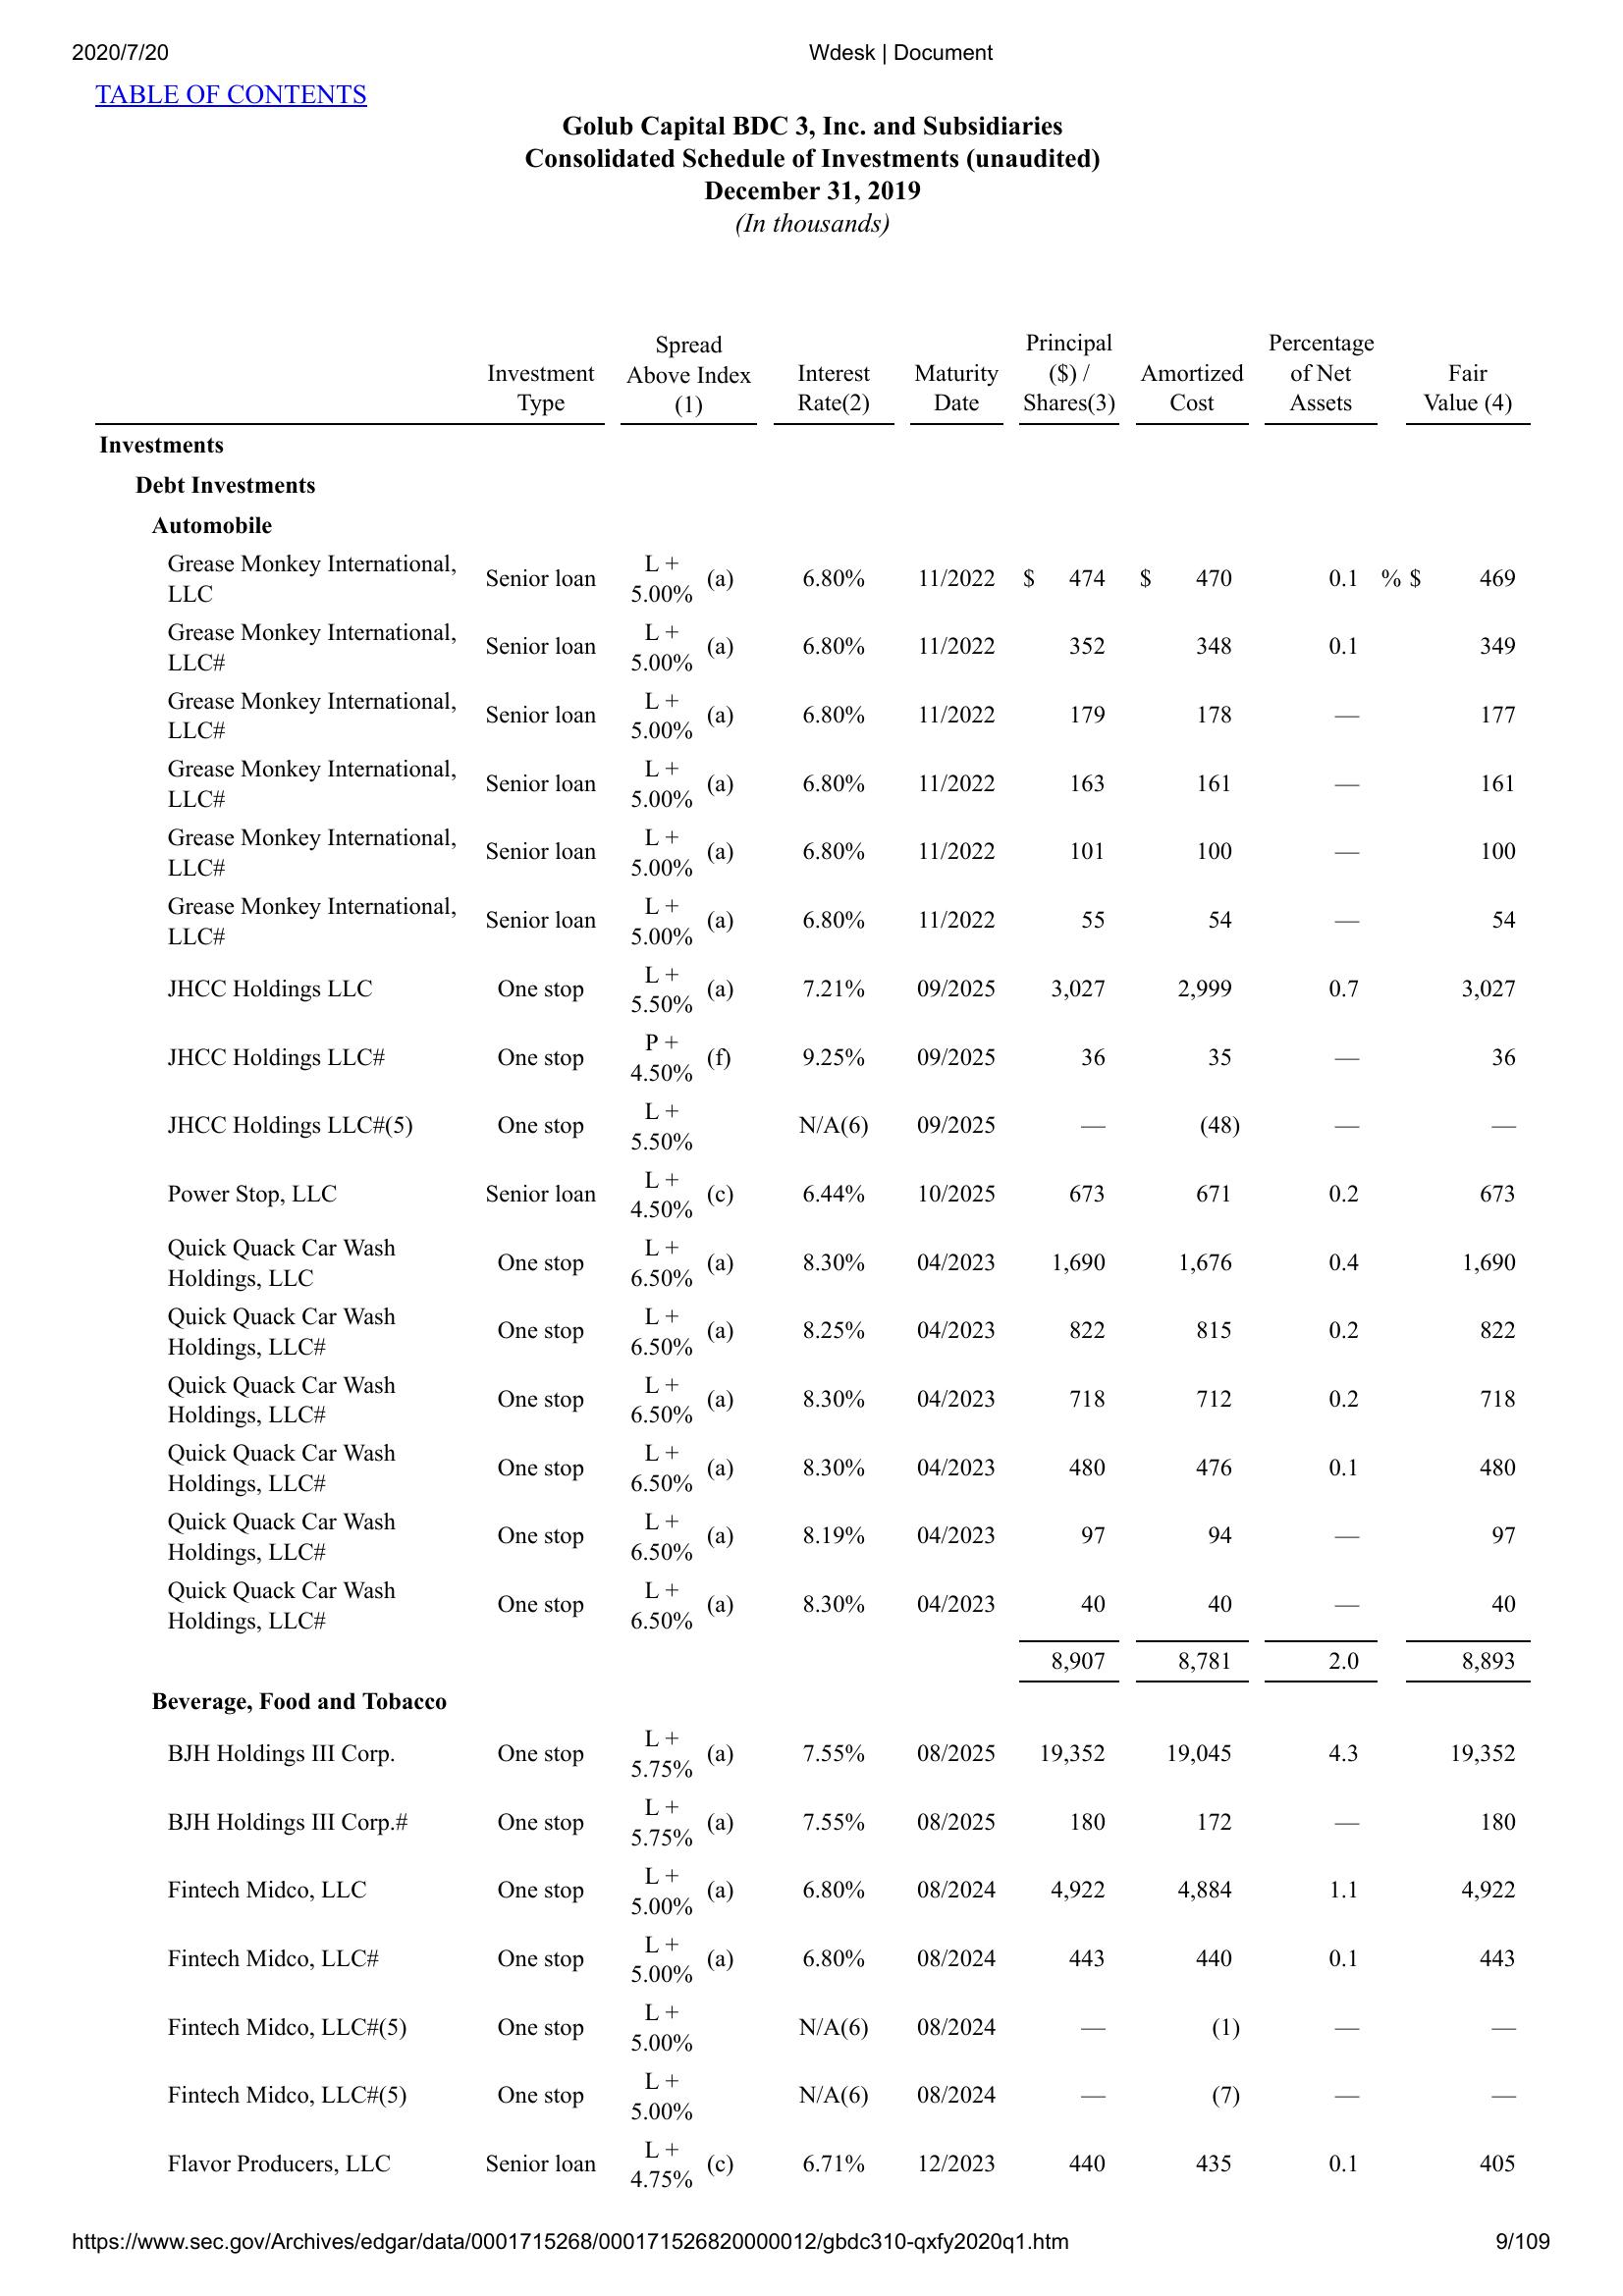table: (63, 332, 1539, 2187)
